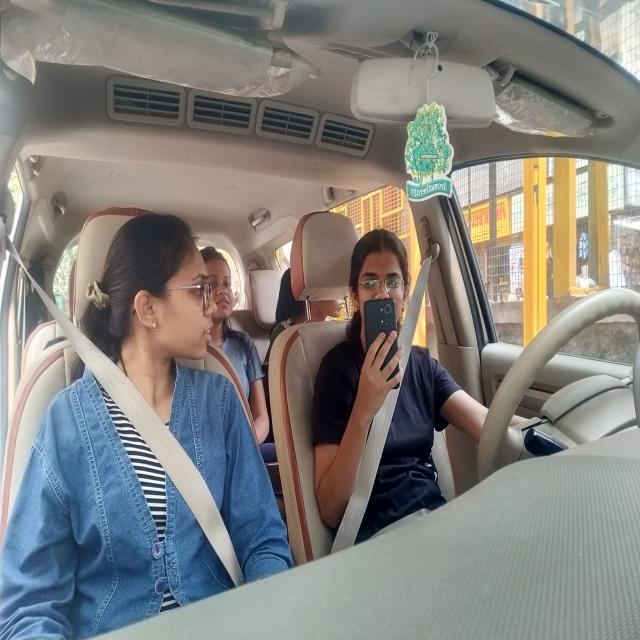mobile: (362, 299, 403, 391)
person: (118, 207, 217, 365), (346, 222, 410, 338), (204, 244, 239, 326), (309, 298, 346, 324)
